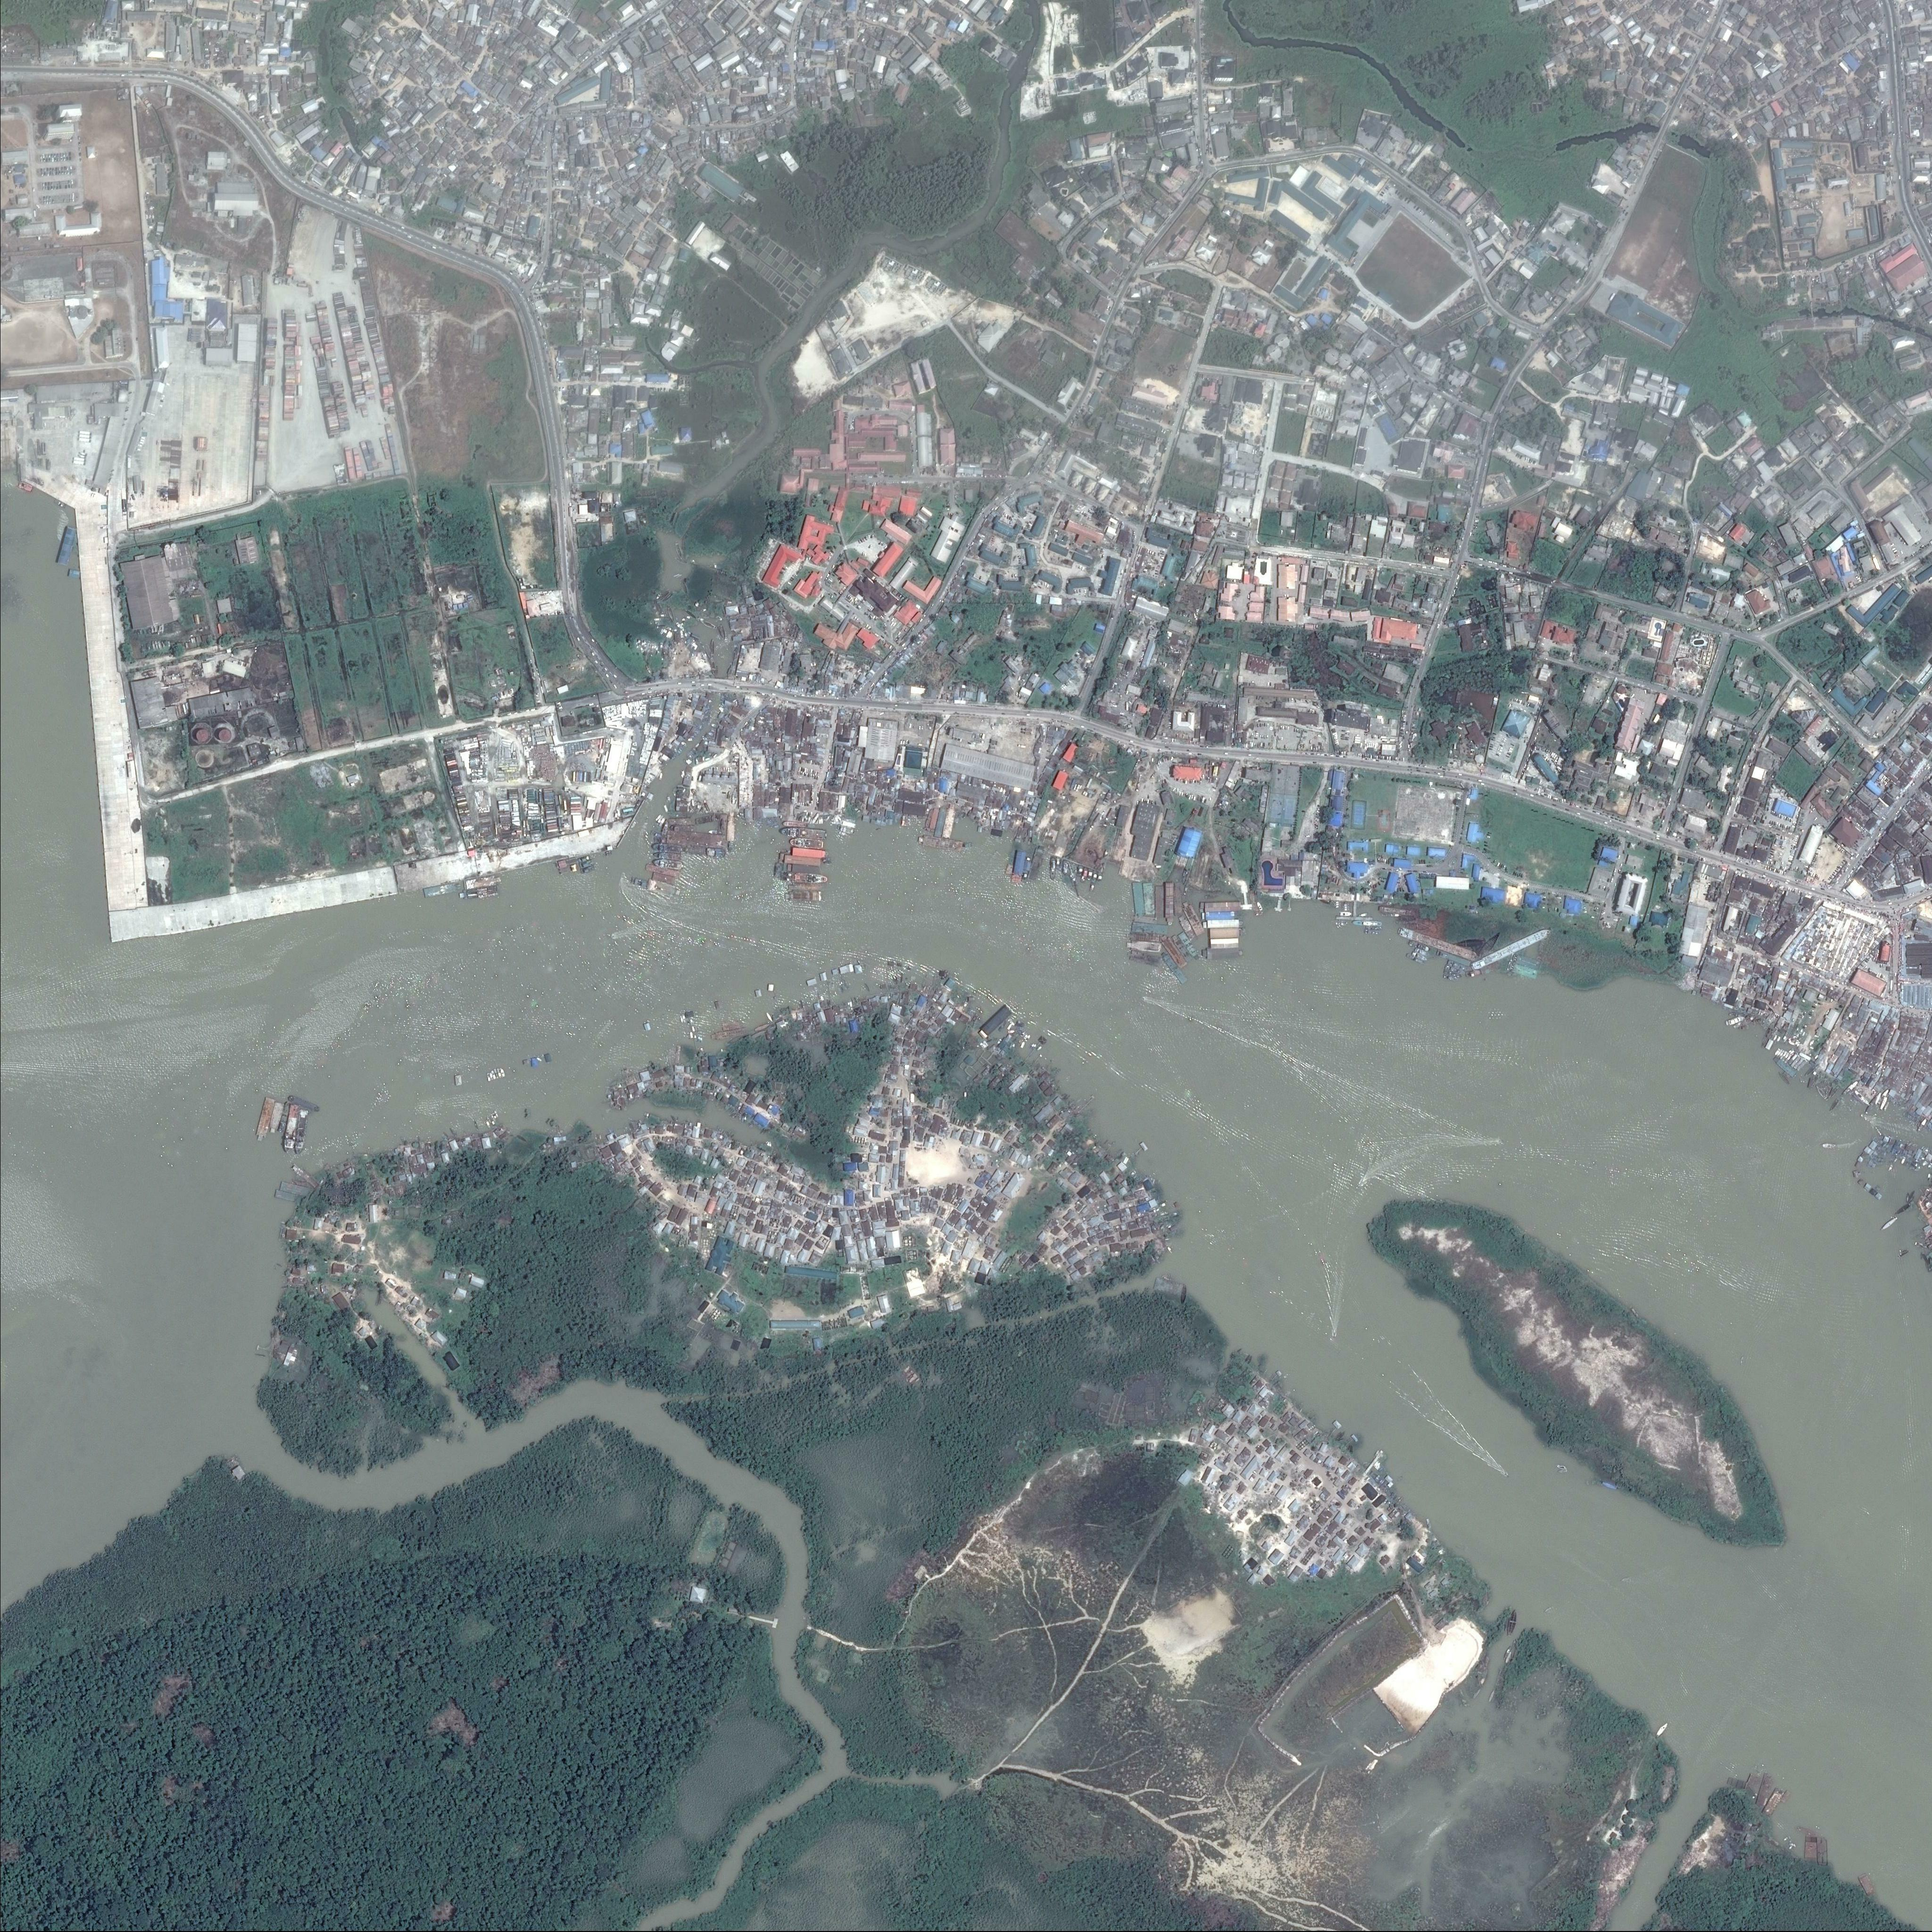harbor: (1335, 896, 1374, 923), (1020, 1035, 1049, 1066), (1362, 1448, 1387, 1477), (1126, 1141, 1150, 1163), (1322, 1419, 1344, 1442), (1342, 1433, 1360, 1453), (1078, 1095, 1095, 1113), (1269, 1369, 1283, 1384), (1030, 1054, 1043, 1069), (1273, 896, 1284, 913), (1286, 898, 1293, 912), (1426, 1519, 1432, 1531)
ship: (1469, 927, 1553, 972), (1395, 926, 1480, 963), (666, 830, 726, 850), (1159, 933, 1188, 969), (282, 1104, 301, 1156), (1161, 950, 1188, 985), (255, 1096, 276, 1143), (1474, 930, 1504, 962), (1180, 901, 1205, 937), (292, 1108, 310, 1157), (1125, 948, 1164, 968), (1177, 931, 1202, 962), (286, 1094, 321, 1115), (1170, 934, 1194, 962), (647, 879, 681, 897), (464, 874, 503, 890), (1772, 1056, 1799, 1079), (780, 827, 827, 839), (688, 844, 726, 860), (1177, 913, 1198, 941), (458, 886, 498, 900), (1028, 848, 1045, 880), (1010, 850, 1027, 883), (645, 863, 681, 879), (423, 883, 460, 898), (1759, 1020, 1777, 1050), (1132, 922, 1168, 935), (1132, 882, 1146, 916), (784, 854, 821, 867), (789, 837, 826, 849), (269, 1102, 283, 1135), (653, 857, 685, 871), (1377, 906, 1414, 918), (793, 873, 830, 885), (1143, 882, 1156, 915), (1126, 940, 1161, 952), (1893, 1201, 1918, 1217), (278, 1101, 291, 1133), (785, 891, 821, 902), (1126, 932, 1162, 943), (1450, 939, 1486, 949), (793, 847, 826, 859), (1852, 1089, 1873, 1107), (1164, 882, 1175, 918), (1841, 1079, 1861, 1097), (1447, 959, 1474, 972), (1465, 967, 1493, 979), (652, 842, 683, 853), (1155, 887, 1165, 919), (1880, 1216, 1899, 1233), (1814, 1084, 1832, 1102), (1404, 953, 1427, 967), (652, 872, 676, 885), (1506, 1610, 1518, 1636), (653, 850, 681, 860), (1173, 883, 1182, 916), (783, 821, 818, 829), (792, 864, 820, 874), (1408, 939, 1430, 952), (1654, 1722, 1670, 1739), (695, 814, 719, 825), (1725, 1015, 1747, 1027), (836, 823, 855, 836), (789, 884, 821, 891), (1353, 920, 1382, 928), (1803, 1064, 1819, 1078), (1134, 915, 1158, 924), (1443, 968, 1463, 979), (1048, 855, 1057, 879), (727, 816, 736, 841), (699, 618, 717, 630), (1403, 924, 1432, 931), (1827, 1085, 1841, 1100), (1411, 951, 1429, 962), (719, 813, 728, 836), (630, 877, 648, 888), (1828, 1097, 1841, 1113), (670, 824, 696, 832), (1778, 1071, 1792, 1085), (1444, 966, 1463, 976), (683, 608, 697, 621), (674, 542, 684, 560), (1916, 1118, 1928, 1133), (1445, 964, 1464, 973), (1601, 1481, 1618, 1491), (668, 818, 691, 825), (1079, 867, 1089, 885), (18, 481, 34, 492), (1414, 947, 1430, 958), (1879, 1096, 1889, 1111), (666, 605, 676, 622), (1435, 950, 1450, 961), (1797, 1060, 1809, 1072), (1791, 1055, 1803, 1068), (673, 555, 689, 565), (718, 622, 727, 640), (1824, 1082, 1834, 1097), (704, 644, 713, 660), (662, 591, 674, 603), (650, 830, 666, 839), (839, 820, 856, 829), (657, 589, 669, 601), (1793, 1058, 1805, 1070), (1443, 973, 1458, 982), (1503, 1646, 1513, 1659), (580, 865, 595, 874), (579, 860, 593, 869), (1799, 1052, 1811, 1061), (662, 819, 670, 834), (1788, 1054, 1799, 1065), (578, 855, 592, 864), (1880, 1089, 1891, 1099), (1086, 868, 1094, 883), (1504, 1651, 1512, 1665), (1907, 1190, 1916, 1202), (1062, 860, 1069, 877), (811, 813, 820, 824), (1365, 929, 1381, 935), (1742, 1014, 1750, 1027), (1822, 1143, 1836, 1149), (835, 829, 847, 837), (1077, 864, 1084, 877), (654, 836, 666, 844), (1733, 1020, 1742, 1030), (1784, 1054, 1793, 1064), (1782, 1053, 1791, 1062), (1092, 870, 1098, 883), (1780, 1051, 1789, 1061), (1097, 871, 1103, 883), (833, 814, 840, 825), (1007, 1019, 1017, 1027), (658, 817, 666, 828), (1256, 901, 1264, 912), (1729, 1013, 1746, 1018), (777, 848, 791, 854), (1778, 1050, 1786, 1059), (711, 660, 716, 675), (1339, 911, 1352, 917), (1775, 1049, 1783, 1058), (710, 640, 715, 655), (1382, 913, 1400, 917), (714, 665, 720, 679), (1774, 1048, 1782, 1057), (1900, 1156, 1907, 1165), (1089, 884, 1095, 894), (1739, 1025, 1751, 1030), (1358, 912, 1369, 918), (655, 814, 662, 822), (708, 830, 719, 835), (1025, 1035, 1032, 1042), (1007, 1023, 1013, 1031), (1020, 1041, 1026, 1049), (823, 860, 832, 865), (997, 1038, 1003, 1046), (1909, 1196, 1915, 1203), (658, 815, 663, 823), (1906, 1193, 1910, 1203), (1922, 1161, 1928, 1167), (1020, 1031, 1027, 1037), (1773, 1036, 1778, 1042), (1776, 1036, 1782, 1043), (1037, 1046, 1043, 1052), (659, 772, 663, 781), (654, 618, 661, 621), (1008, 1030, 1016, 1034)
